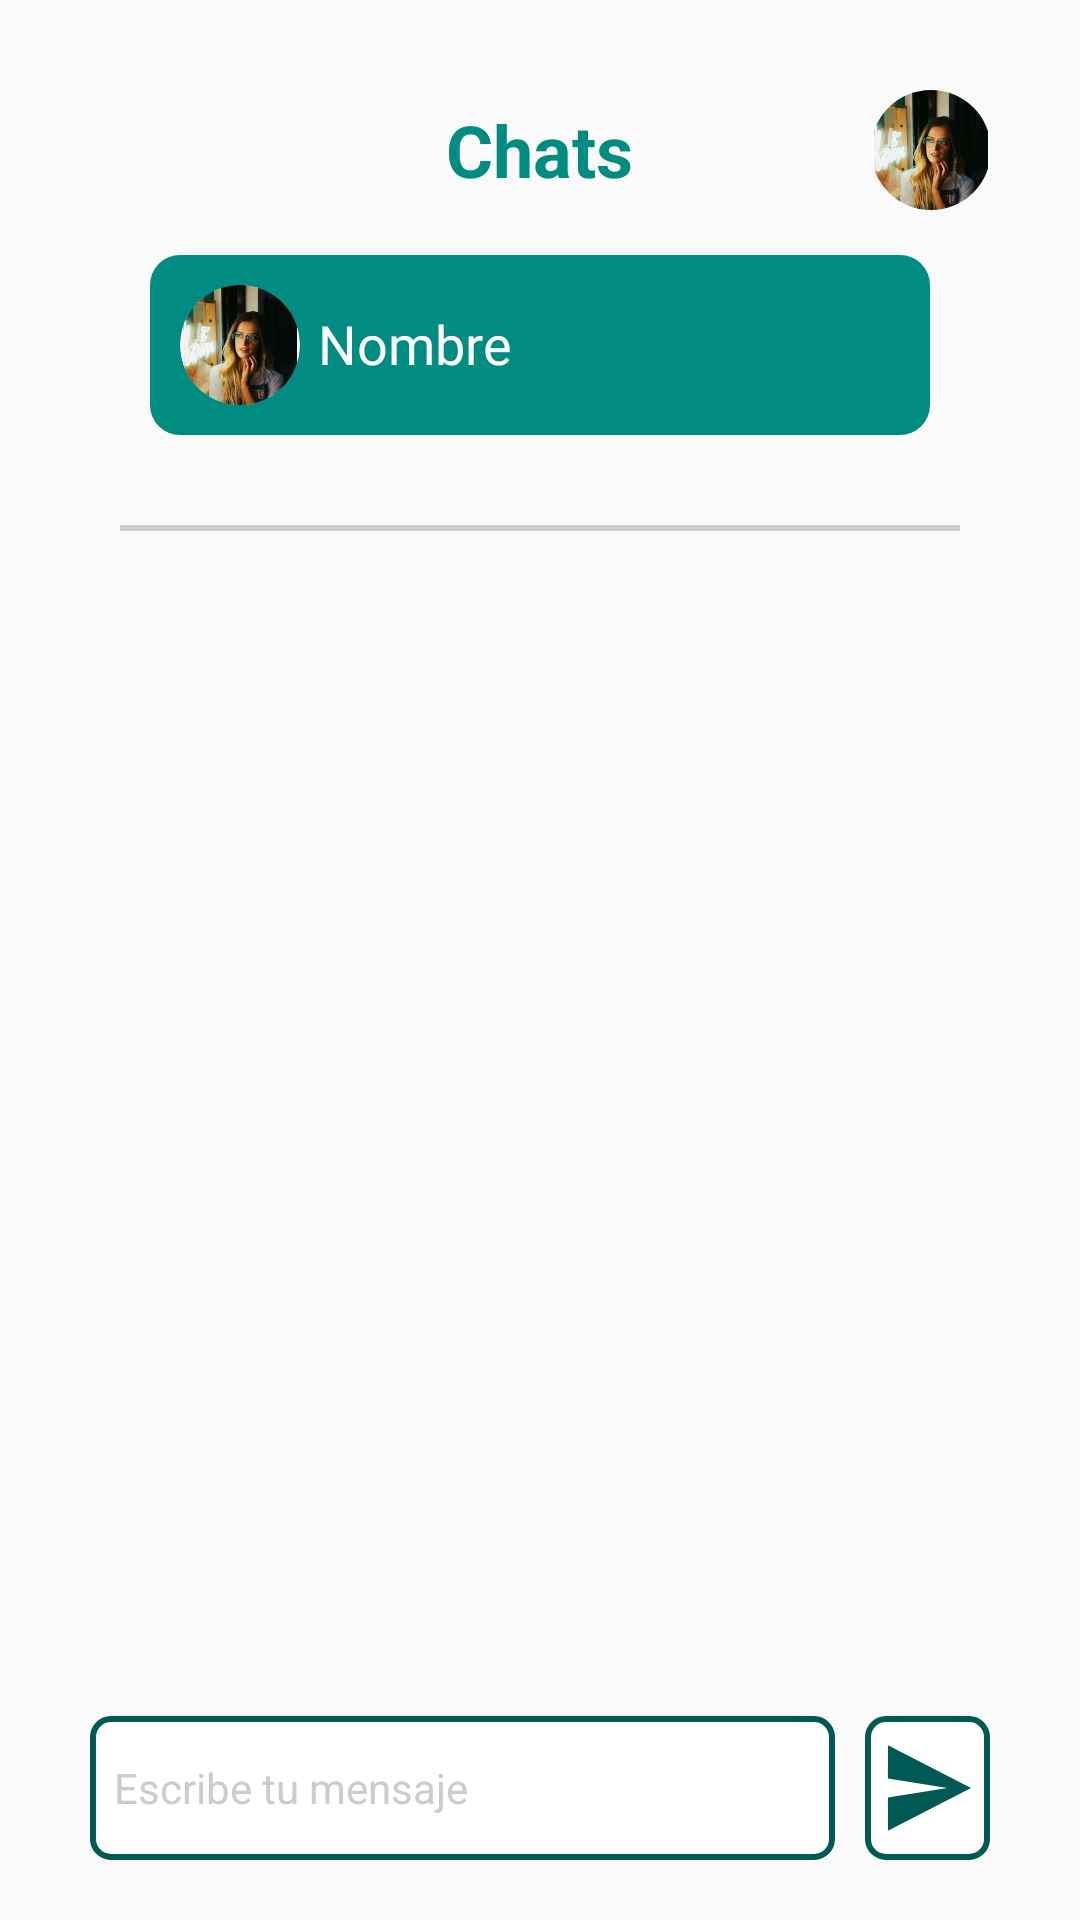

Icons on this 1080×1920 Android screen, each with the point to tap as point (x, y):
photo main: point (931, 150), point (240, 345)
